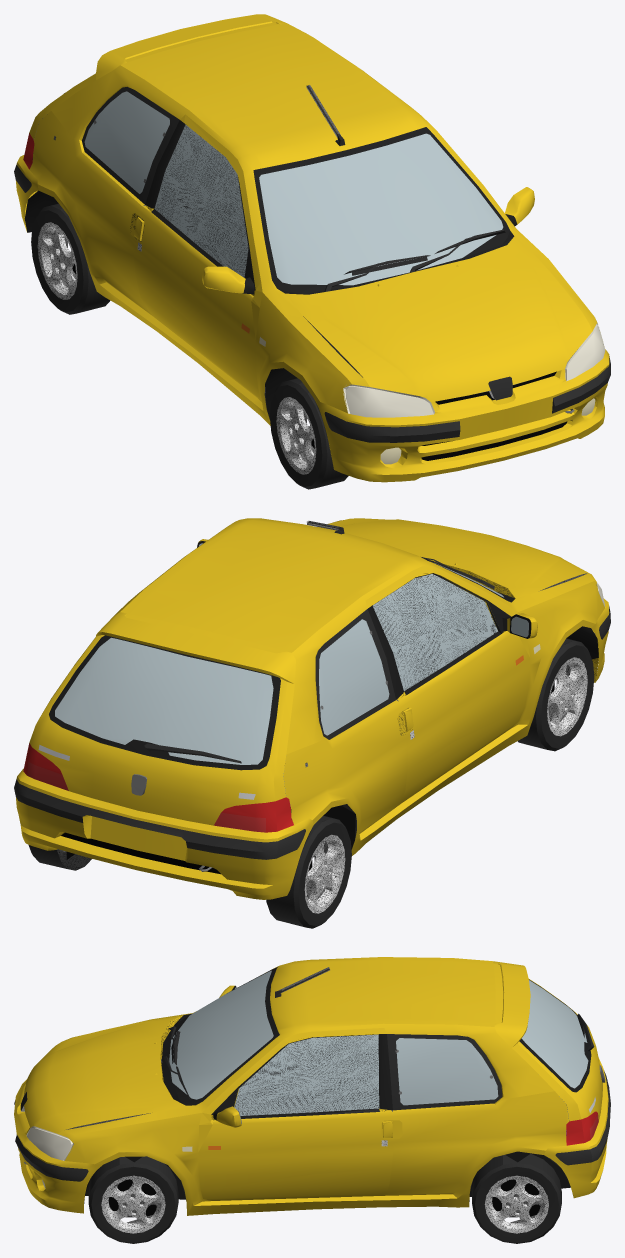
File: peugeot106.dae
3 renders of one model, top to bottom at view 1: azimuth 30°, elevation 25°; view 2: azimuth 150°, elevation 25°; view 3: azimuth 270°, elevation 25°, orthographic. The views are drawn at different scales.
Visible parts, largest first — view 1: Base (×8), Hood, Front_Bump (×4), Front_Left (×4), Right_Head, Left_Rear_ (×2), Left_Headl; view 2: Base (×8), Rear_Bumpe (×3), Front_Left (×5), Hood, Tail_Light (×3); view 3: Base (×12), Front_Left (×6), Hood, Front_Bump (×2), Rear_Bumpe (×2), Left_Headl, Tail_Light.
Boxes of the visible parts, x1=… form: Base (×8): x1=24, y1=14, x2=597, y2=437; Hood: x1=285, y1=236, x2=592, y2=402; Front_Bump (×4): x1=314, y1=349, x2=610, y2=482; Front_Left (×4): x1=31, y1=203, x2=348, y2=489; Right_Head: x1=343, y1=384, x2=434, y2=417; Left_Rear_ (×2): x1=202, y1=187, x2=534, y2=293; Left_Headl: x1=565, y1=323, x2=605, y2=381; Base (×8): x1=29, y1=518, x2=604, y2=863; Rear_Bumpe (×3): x1=14, y1=768, x2=313, y2=899; Front_Left (×5): x1=28, y1=638, x2=594, y2=928; Hood: x1=318, y1=518, x2=589, y2=598; Tail_Light (×3): x1=27, y1=762, x2=293, y2=832; Base (×12): x1=57, y1=957, x2=602, y2=1215; Front_Left (×6): x1=88, y1=1154, x2=561, y2=1243; Hood: x1=24, y1=1015, x2=185, y2=1133; Front_Bump (×2): x1=14, y1=1077, x2=102, y2=1213; Rear_Bumpe (×2): x1=544, y1=1058, x2=610, y2=1198; Left_Headl: x1=26, y1=1126, x2=73, y2=1160; Tail_Light: x1=566, y1=1111, x2=597, y2=1145.
Bounding box in the file's own units: 2.09 × 4.05 × 1.69.
